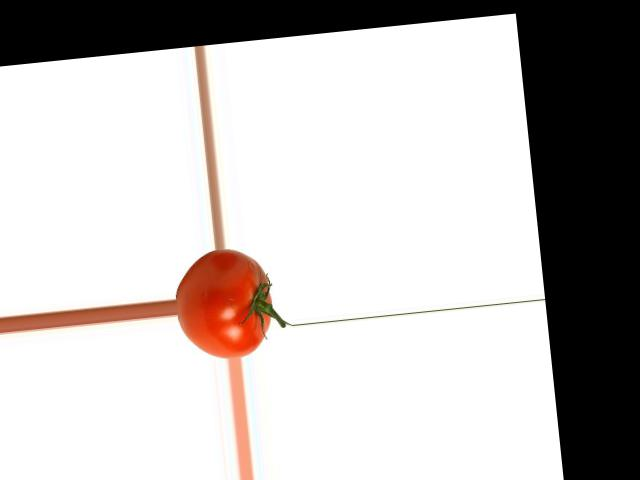tomato: (172, 244, 277, 362)
